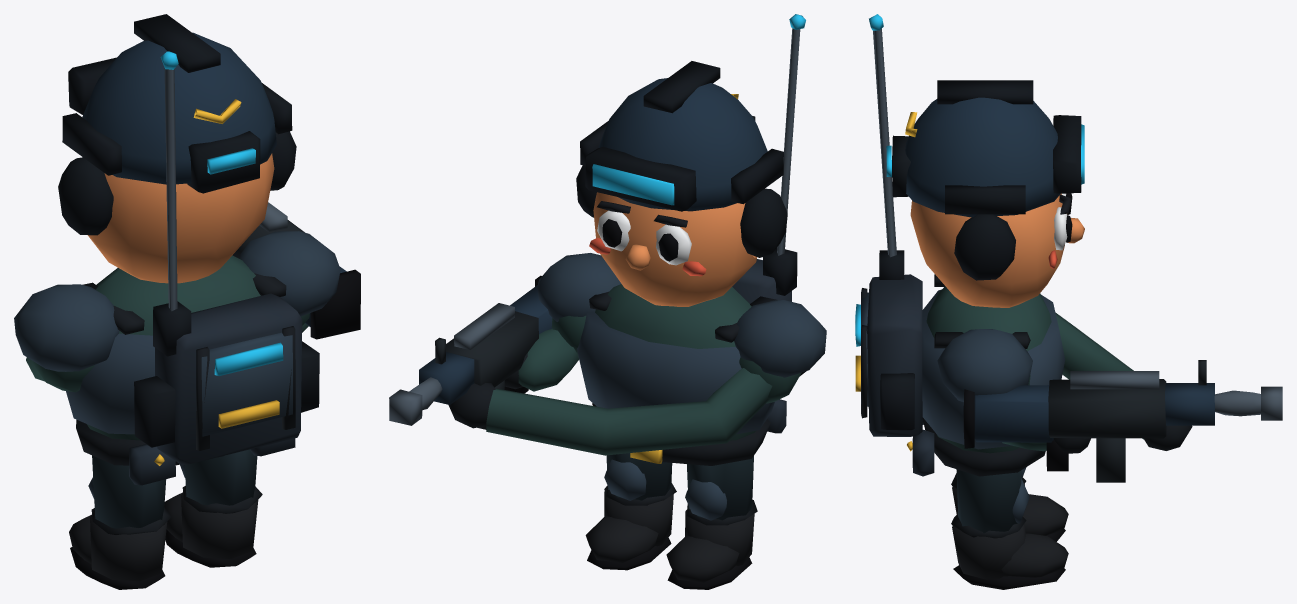
File: soldier-lod.glb
3 views of the same model, side by side, from view 1: azimuth 30°, elevation 25°; view 2: azimuth 150°, elevation 25°; view 3: azimuth 270°, elevation 25° (orthographic). The views are drawn at different scales.
Parts seen in each view (by area): view 1: Body, Head, LegL, LegR, Arms; view 2: Head, Body, Arms, LegL, LegR; view 3: Head, Body, Arms, LegR, LegL.
Boxes of the visible parts, x1,y1,x2,y2 form: Body: (14, 51, 340, 485); Head: (58, 14, 296, 283); LegL: (69, 455, 171, 589); LegR: (164, 449, 262, 567); Arms: (26, 202, 360, 392); Head: (576, 61, 787, 306); Body: (537, 14, 826, 465); Arms: (389, 275, 801, 455); LegL: (666, 456, 757, 589); LegR: (585, 453, 676, 570); Head: (886, 80, 1084, 307); Body: (855, 14, 1065, 476); Arms: (963, 312, 1282, 482); LegR: (951, 469, 1068, 589); LegL: (951, 467, 1068, 541).
Bounding box in the file's own units: 0.8843 × 1.49 × 1.12.
Materials: 1 (1 with a texture image).
